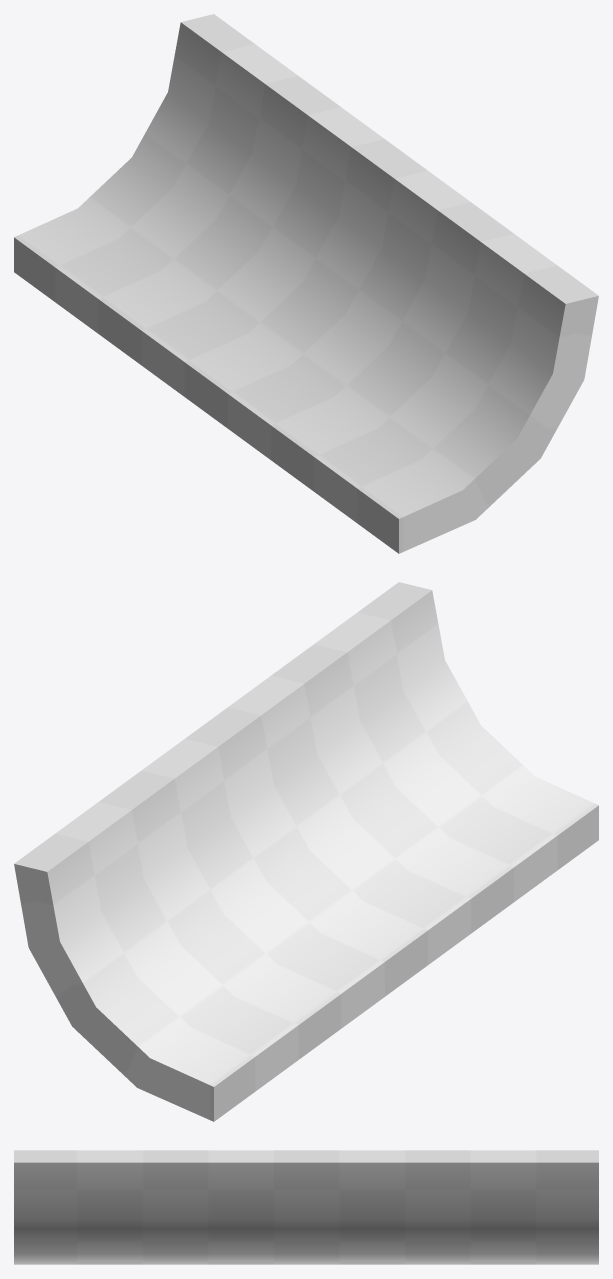
The model's file is enginehall_wall_round_corner.fbx.
The picture shows the model from 3 angles, top to bottom: view 1: azimuth 30°, elevation 25°; view 2: azimuth 150°, elevation 25°; view 3: azimuth 270°, elevation 25°; orthographic projection. The views are drawn at different scales.
Visible parts, largest first — view 1: enginehall_wall_round_corner; view 2: enginehall_wall_round_corner; view 3: enginehall_wall_round_corner.
Part boxes in pixels (x1=…): enginehall_wall_round_corner: x1=14, y1=14, x2=598, y2=553; enginehall_wall_round_corner: x1=14, y1=582, x2=598, y2=1121; enginehall_wall_round_corner: x1=14, y1=1150, x2=598, y2=1264.
Size of the model in its own units: 120 by 120 by 400.
